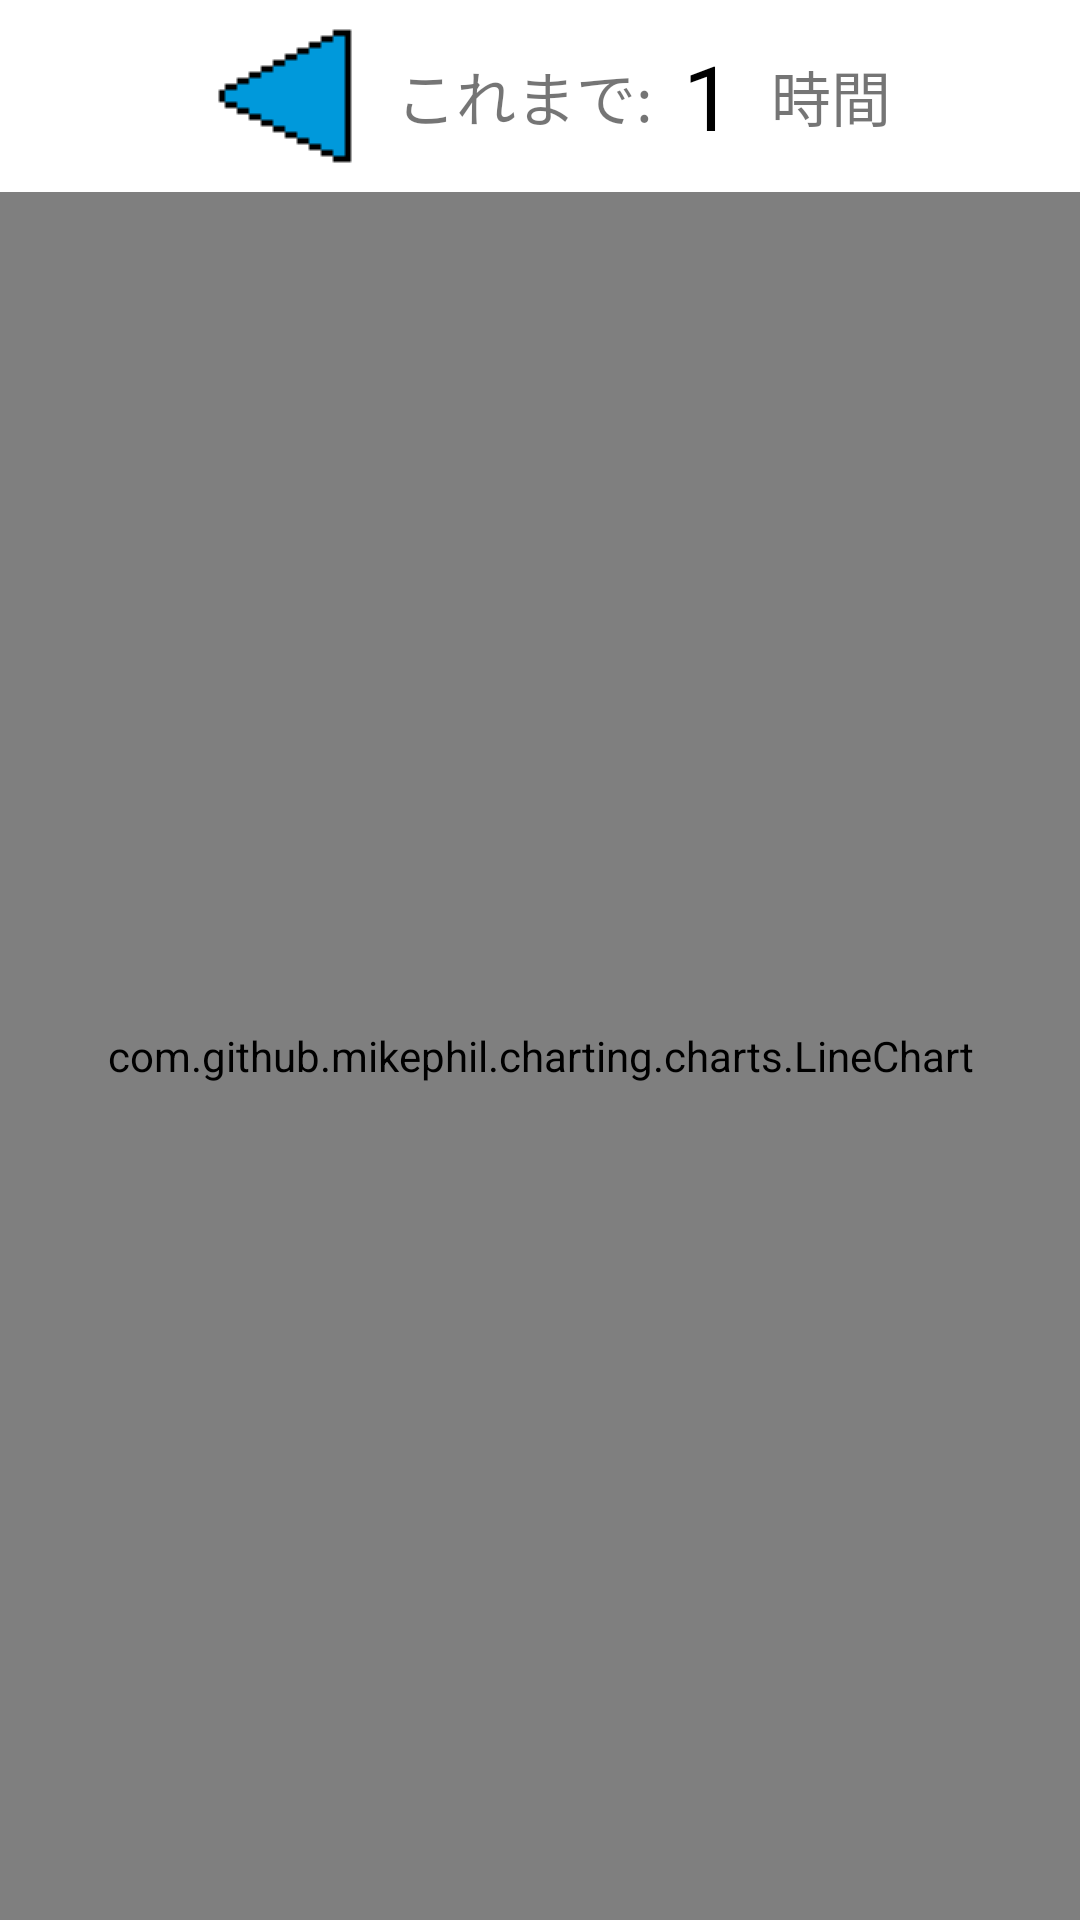

Icon bounding boxes for this 1080 x 1920 phone screenshot, format {"x1": x1, "y1": y1, "x2": x2, "y2": y2}:
change chart left: {"x1": 218, "y1": 29, "x2": 352, "y2": 163}
